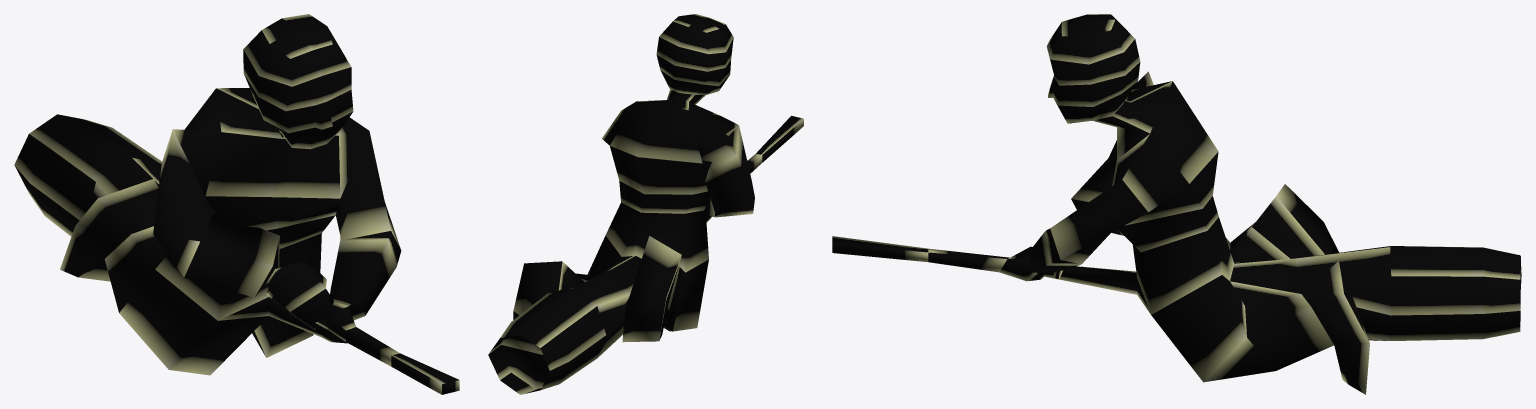
The picture shows the model from 3 angles, left to right: view 1: azimuth 30°, elevation 25°; view 2: azimuth 150°, elevation 25°; view 3: azimuth 270°, elevation 25°; orthographic projection. The views are drawn at different scales.
Visible parts, largest first — view 1: T1L9M001_27; view 2: T1L9M001_27; view 3: T1L9M001_27.
Part boxes in pixels (<box>): T1L9M001_27: <box>14,14,459,394</box>; T1L9M001_27: <box>488,14,803,394</box>; T1L9M001_27: <box>832,14,1521,394</box>.
Size of the model in its own units: 0.5594 by 0.9683 by 1.77.
